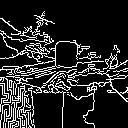cube: (48, 36, 87, 72)
